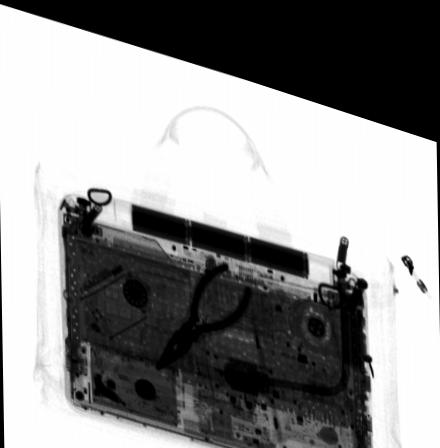Pliers: (154, 246, 252, 361)
